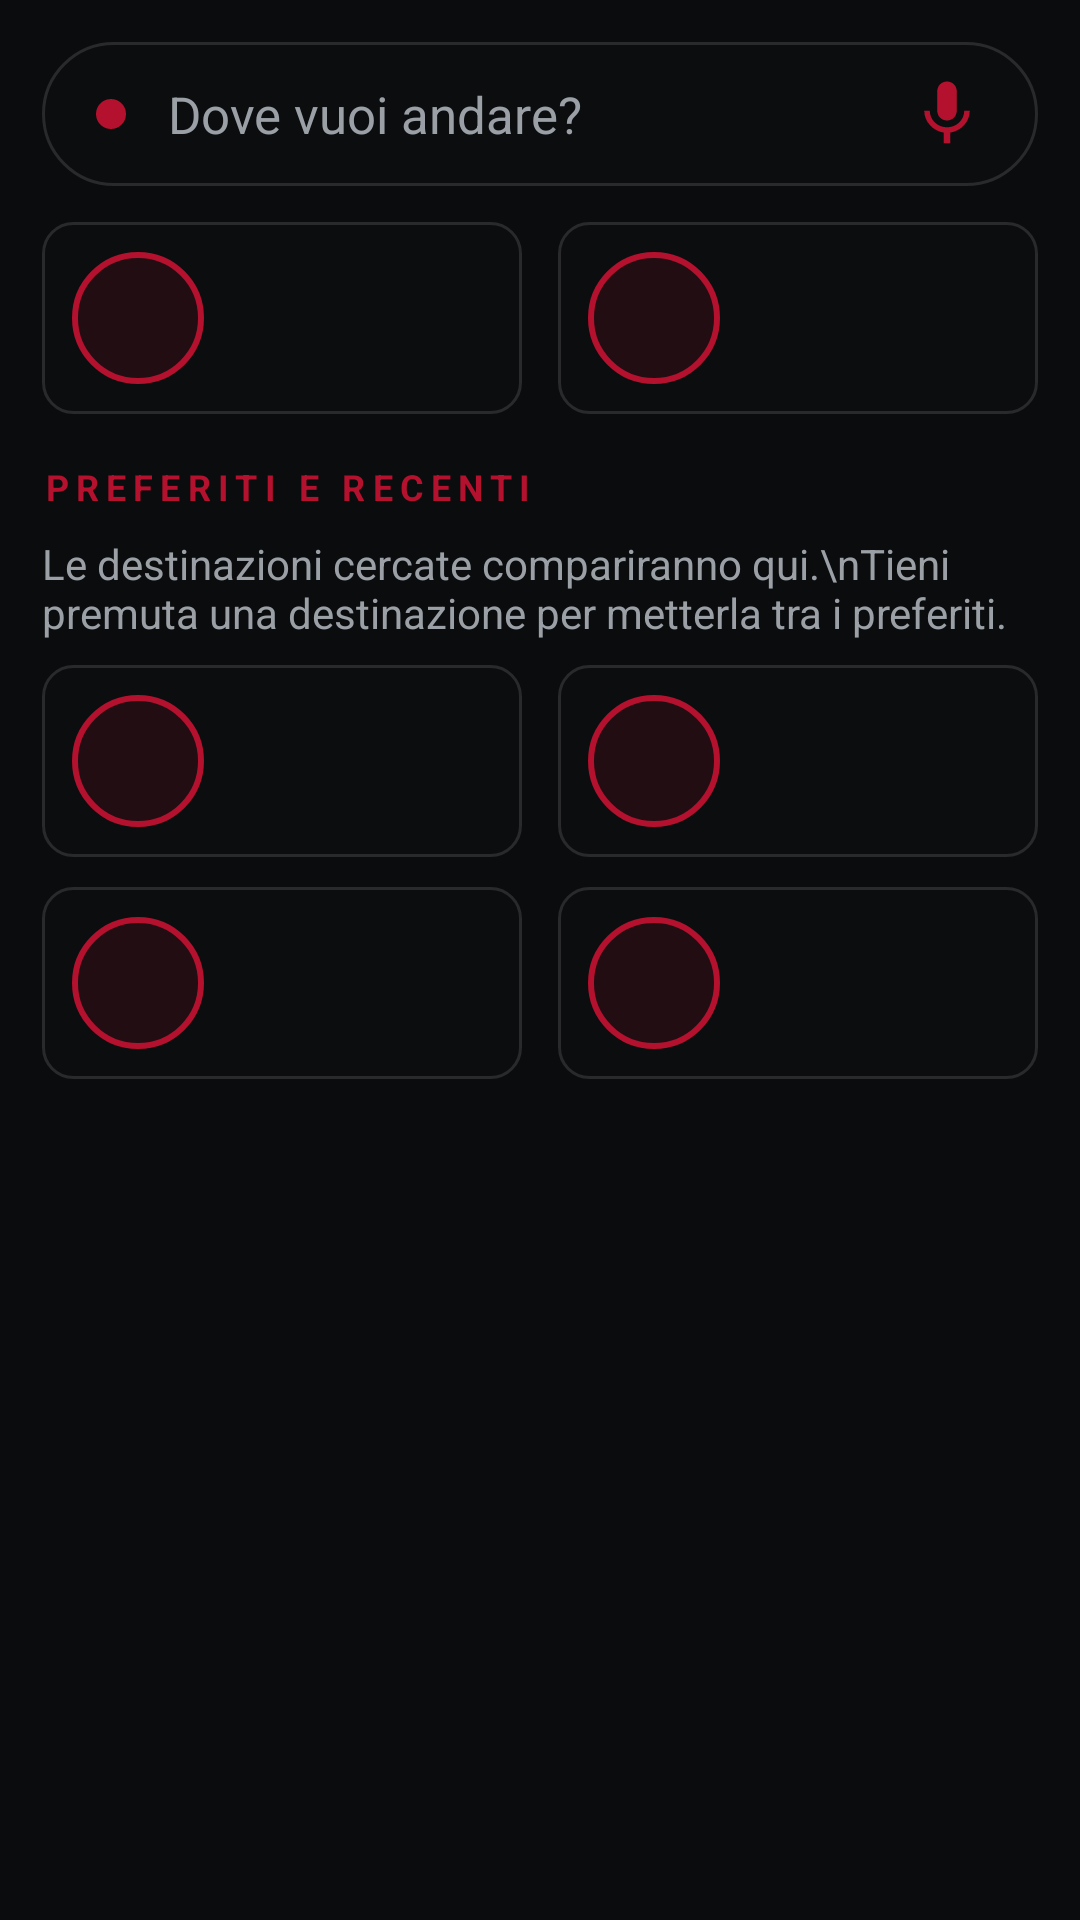

Named icons in this screenshot (1080x1920) and their bounding boxes, (x1, y1, x2, y2):
Assistente vocale: (924, 81, 970, 144)
